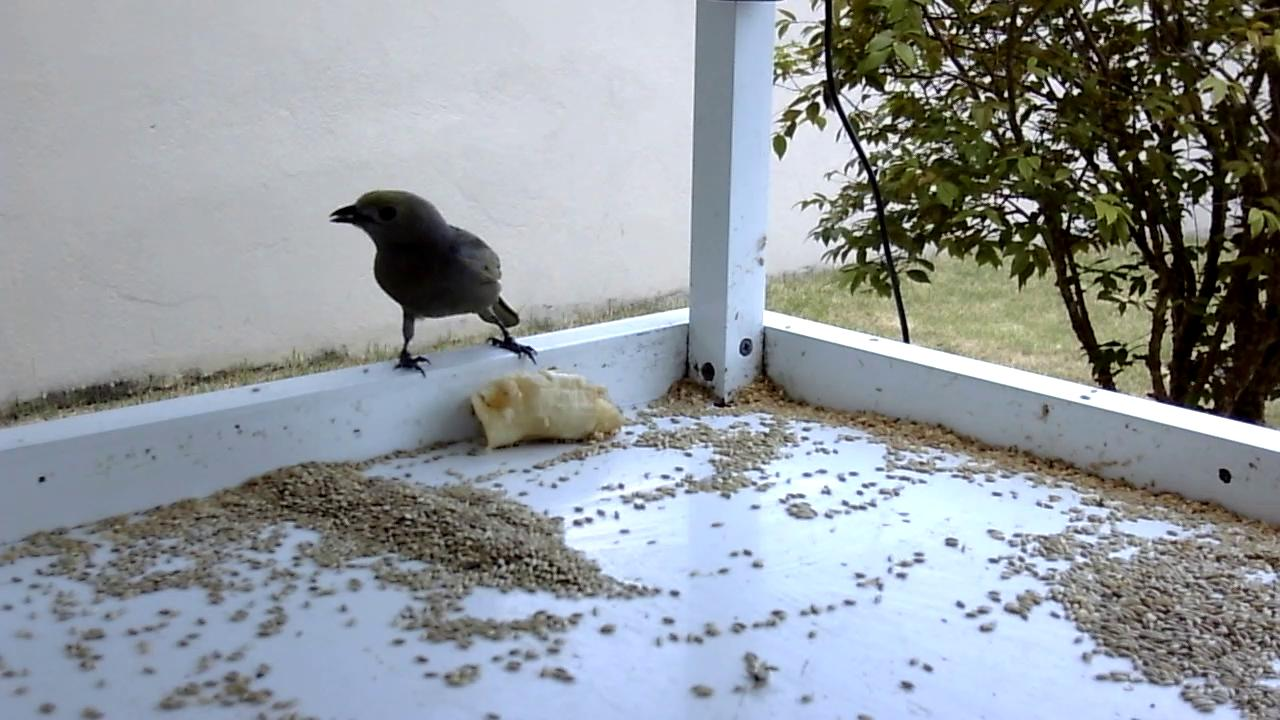sanhaco_do_coqueiro: (327, 188, 542, 384)
